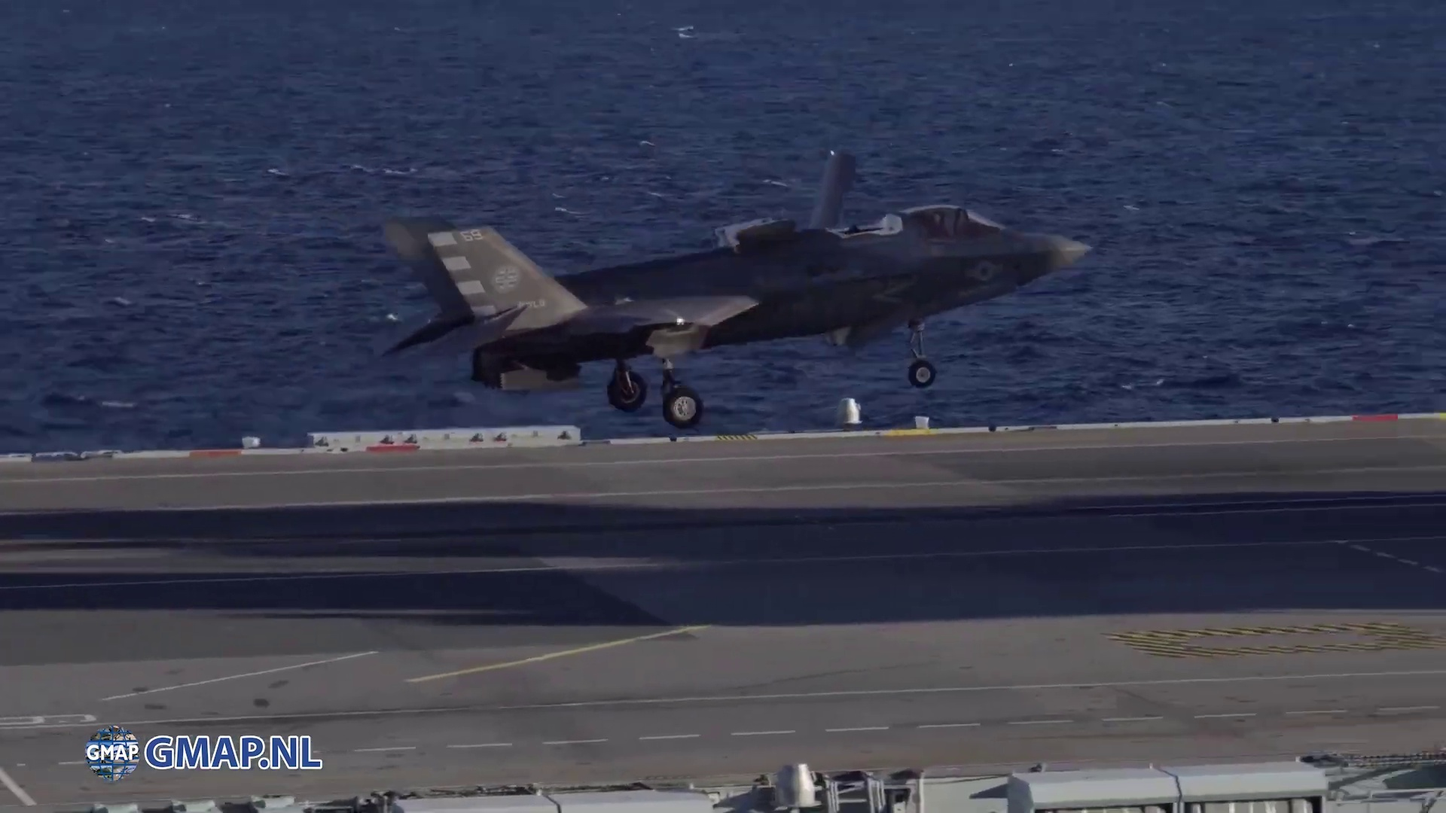F35: (364, 136, 1107, 435)
